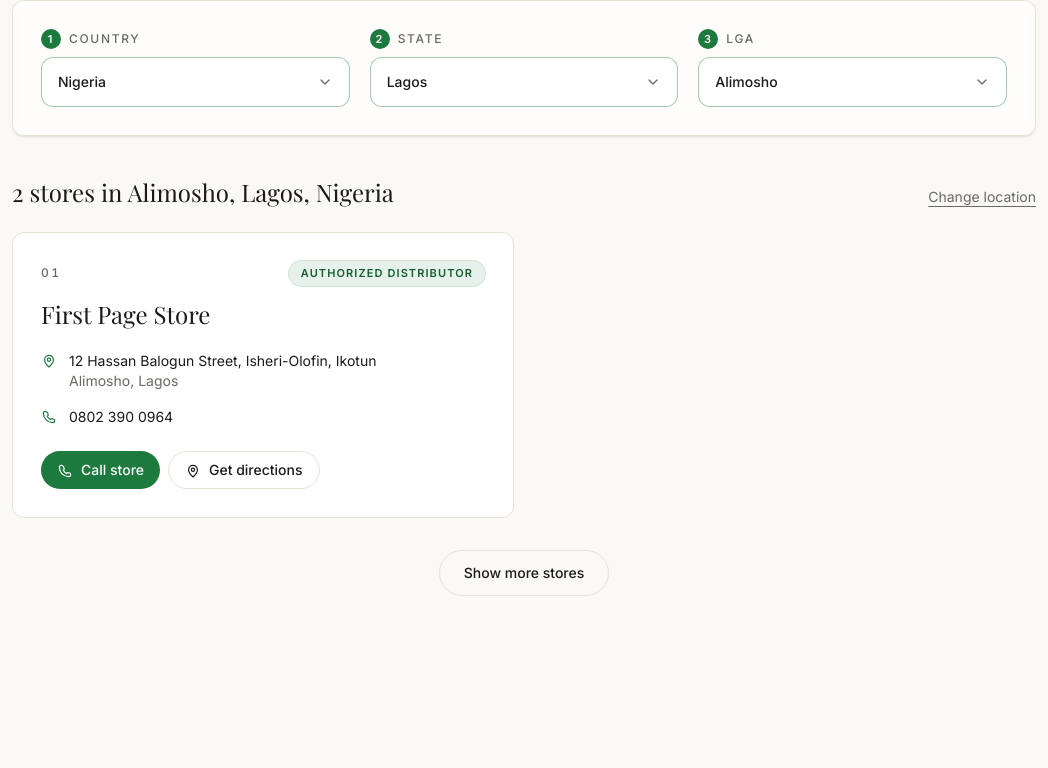
Test: StoreFinder › pages the results rather than capping them
Click the button "Show more stores".
click(524, 572)  # box [439,550,609,596]
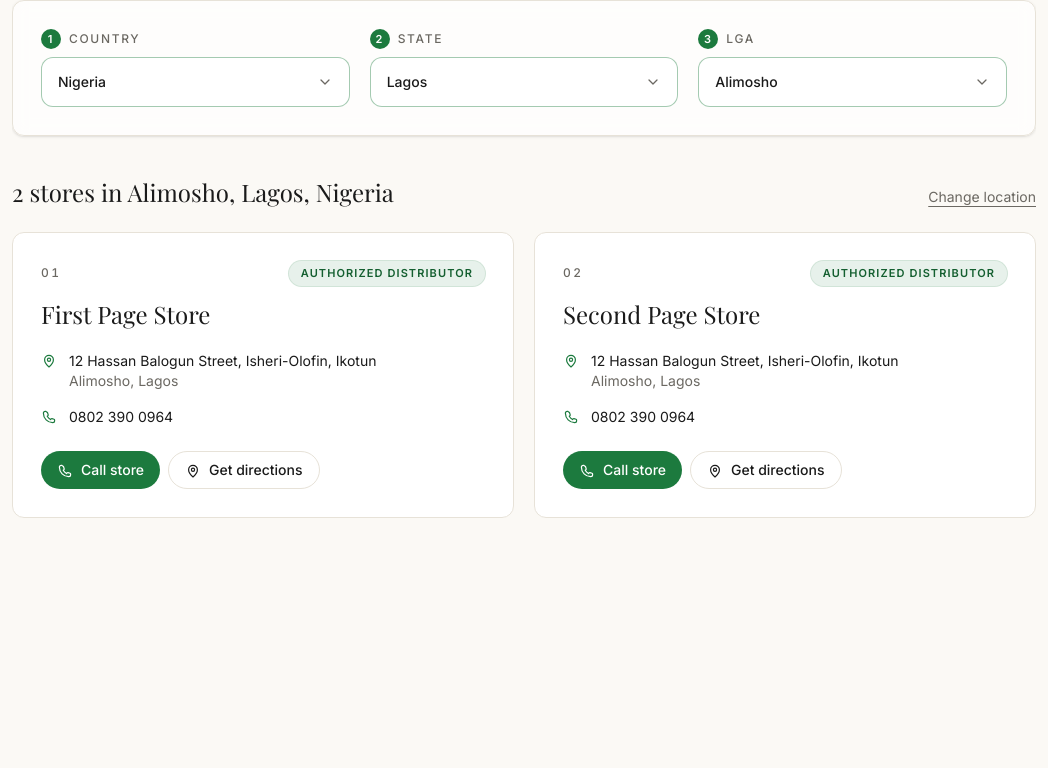
Check: the heading "First Page Store" is shown, box [41,298,210,330]
Check: the heading "Second Page Store" is shown, box [563,298,760,330]
